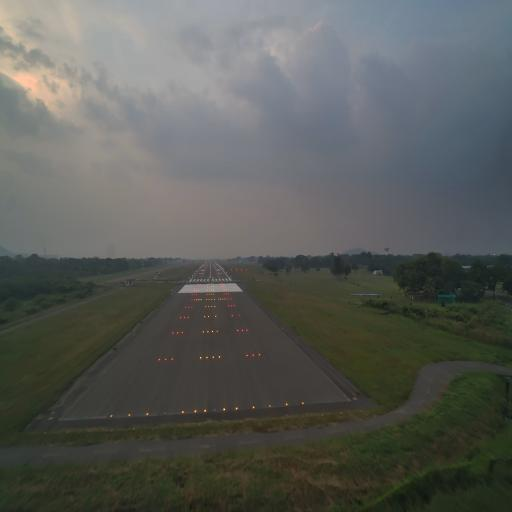off: (212, 406, 218, 414), (163, 409, 167, 417)
on: (202, 406, 208, 416), (193, 406, 198, 416), (300, 399, 306, 407), (127, 411, 132, 420), (180, 408, 185, 417), (284, 400, 289, 409), (234, 404, 239, 412), (144, 411, 150, 417), (250, 404, 256, 410), (170, 356, 175, 363), (222, 406, 226, 414), (268, 402, 272, 410), (218, 352, 222, 360), (245, 352, 249, 360), (198, 355, 203, 361), (110, 412, 114, 419), (211, 354, 215, 361), (251, 352, 255, 359), (157, 357, 161, 363), (164, 357, 168, 363), (206, 354, 209, 360), (258, 352, 261, 358)
